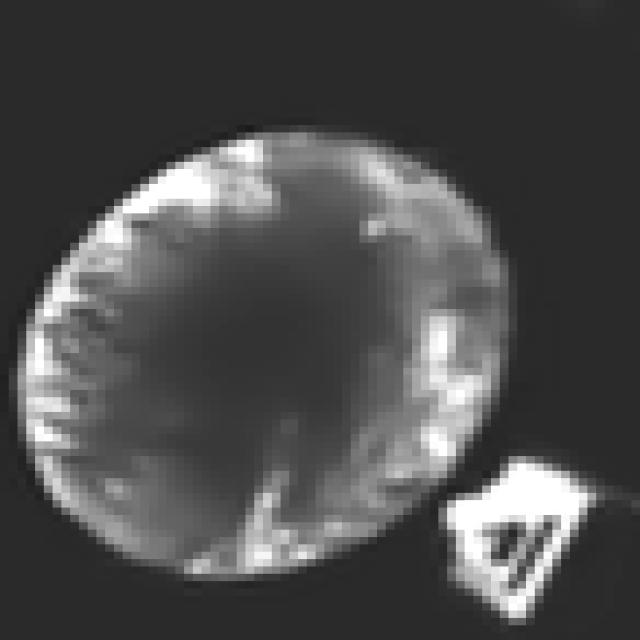large_debris: (8, 77, 606, 629)
